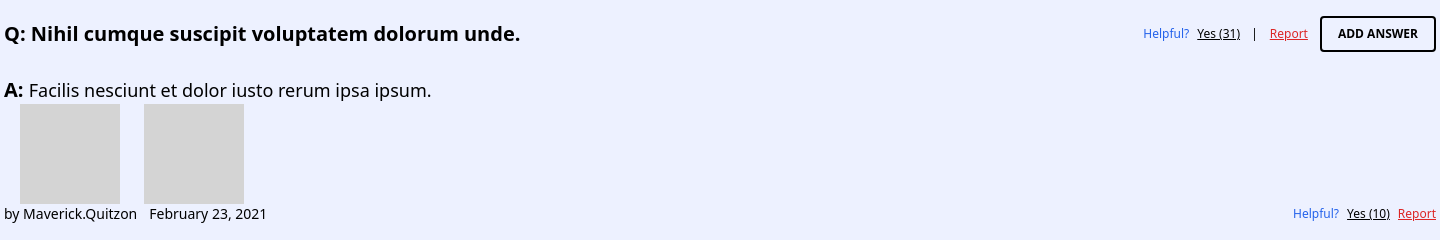
Test: QListEntry › handles clicking the "Helpful?" button
This screenshot has width=1440, height=240.
Click the button with test id "qhelp-btn" at {"x": 1166, "y": 34}, box [1143,26,1189,42]
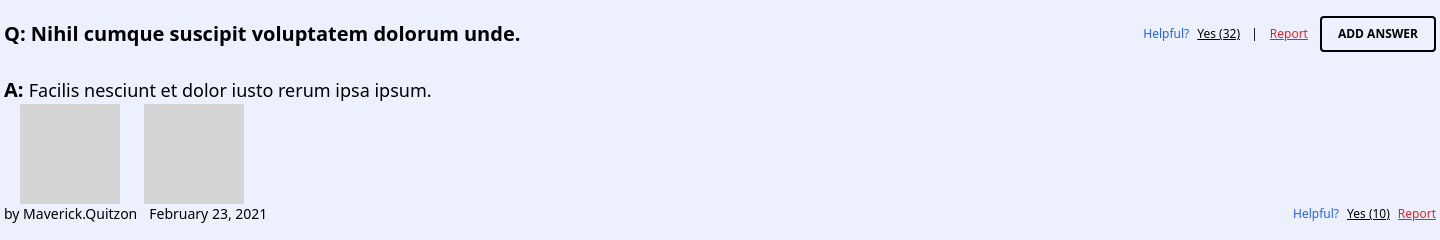
Click the button with test id "qreport-btn" at {"x": 1289, "y": 34}, box [1266,26,1312,42]
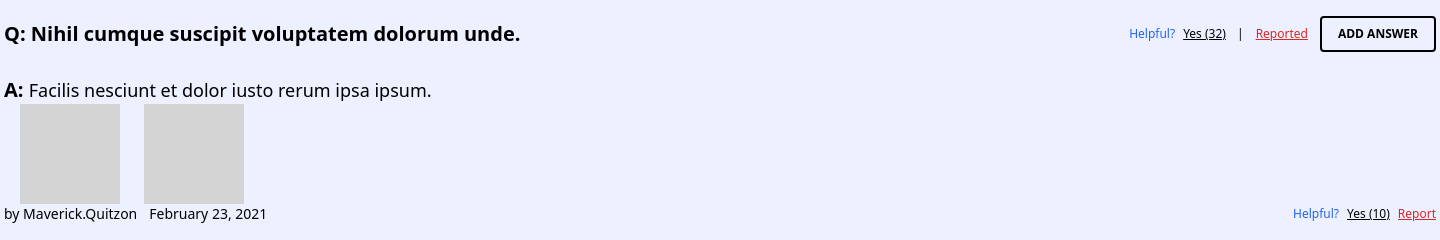
Expected: the text with test id "qyes-count" reads "Yes (32)", [1183,25,1226,42]
Expected: the button "Reported" is shown, [1252,26,1312,42]
